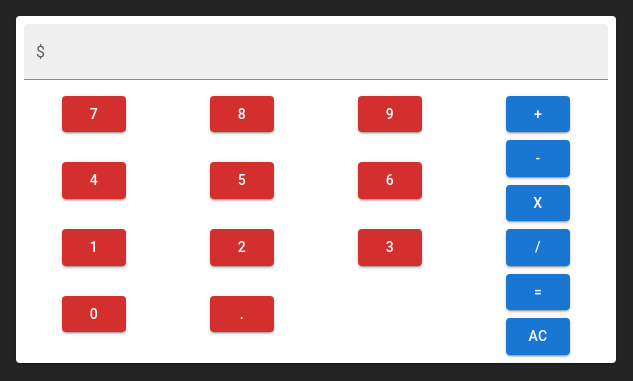
Scenario: Calculator App › should correctly calculate the division of two numbers
This screenshot has width=633, height=381.
Click the button "6" at (390, 181), box [358,162,422,199]
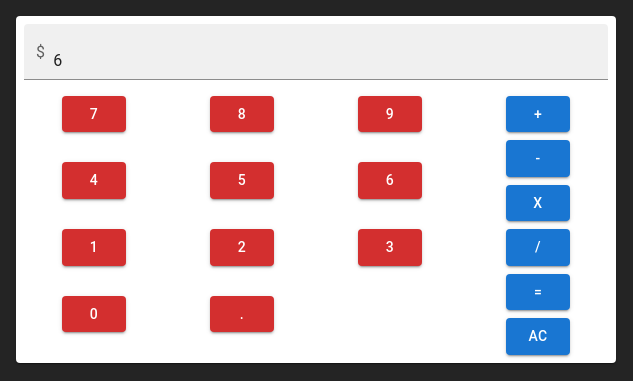
Click the button "/" at (538, 247), box [506,229,570,266]
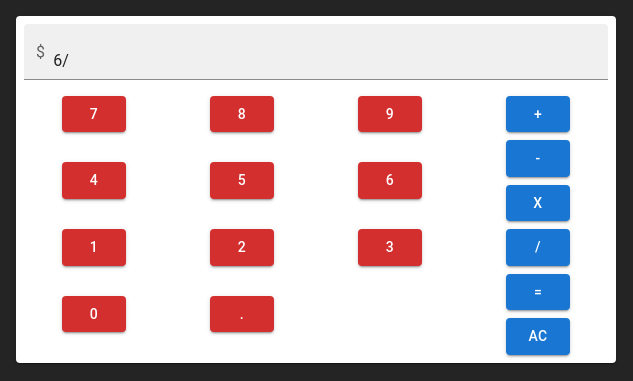
Click the button "3" at (390, 247), box [358,229,422,266]
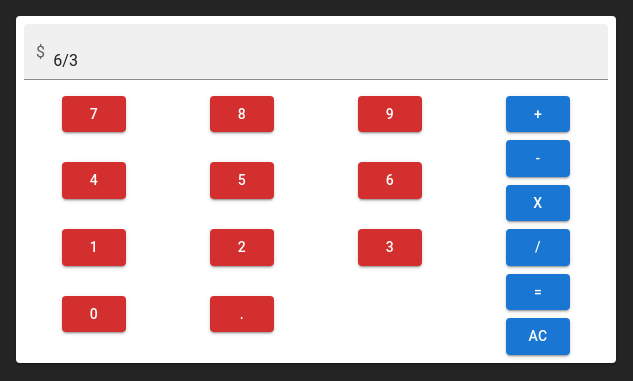
Click the button "=" at (538, 292), box [506,274,570,310]
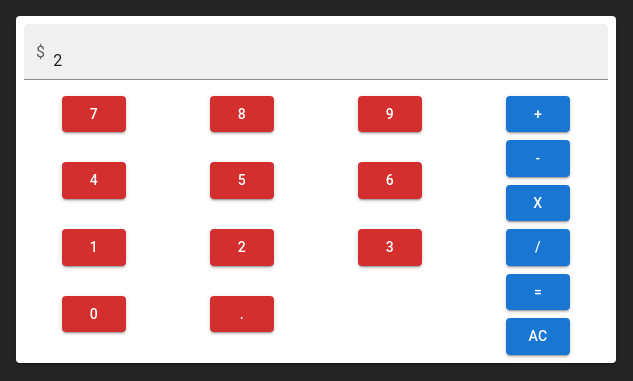
Now the field holds "2", box [53,24,608,80]
